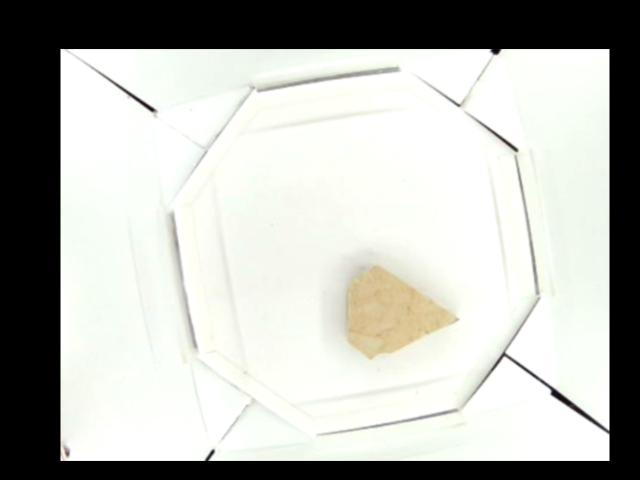China: (345, 264, 461, 363)
